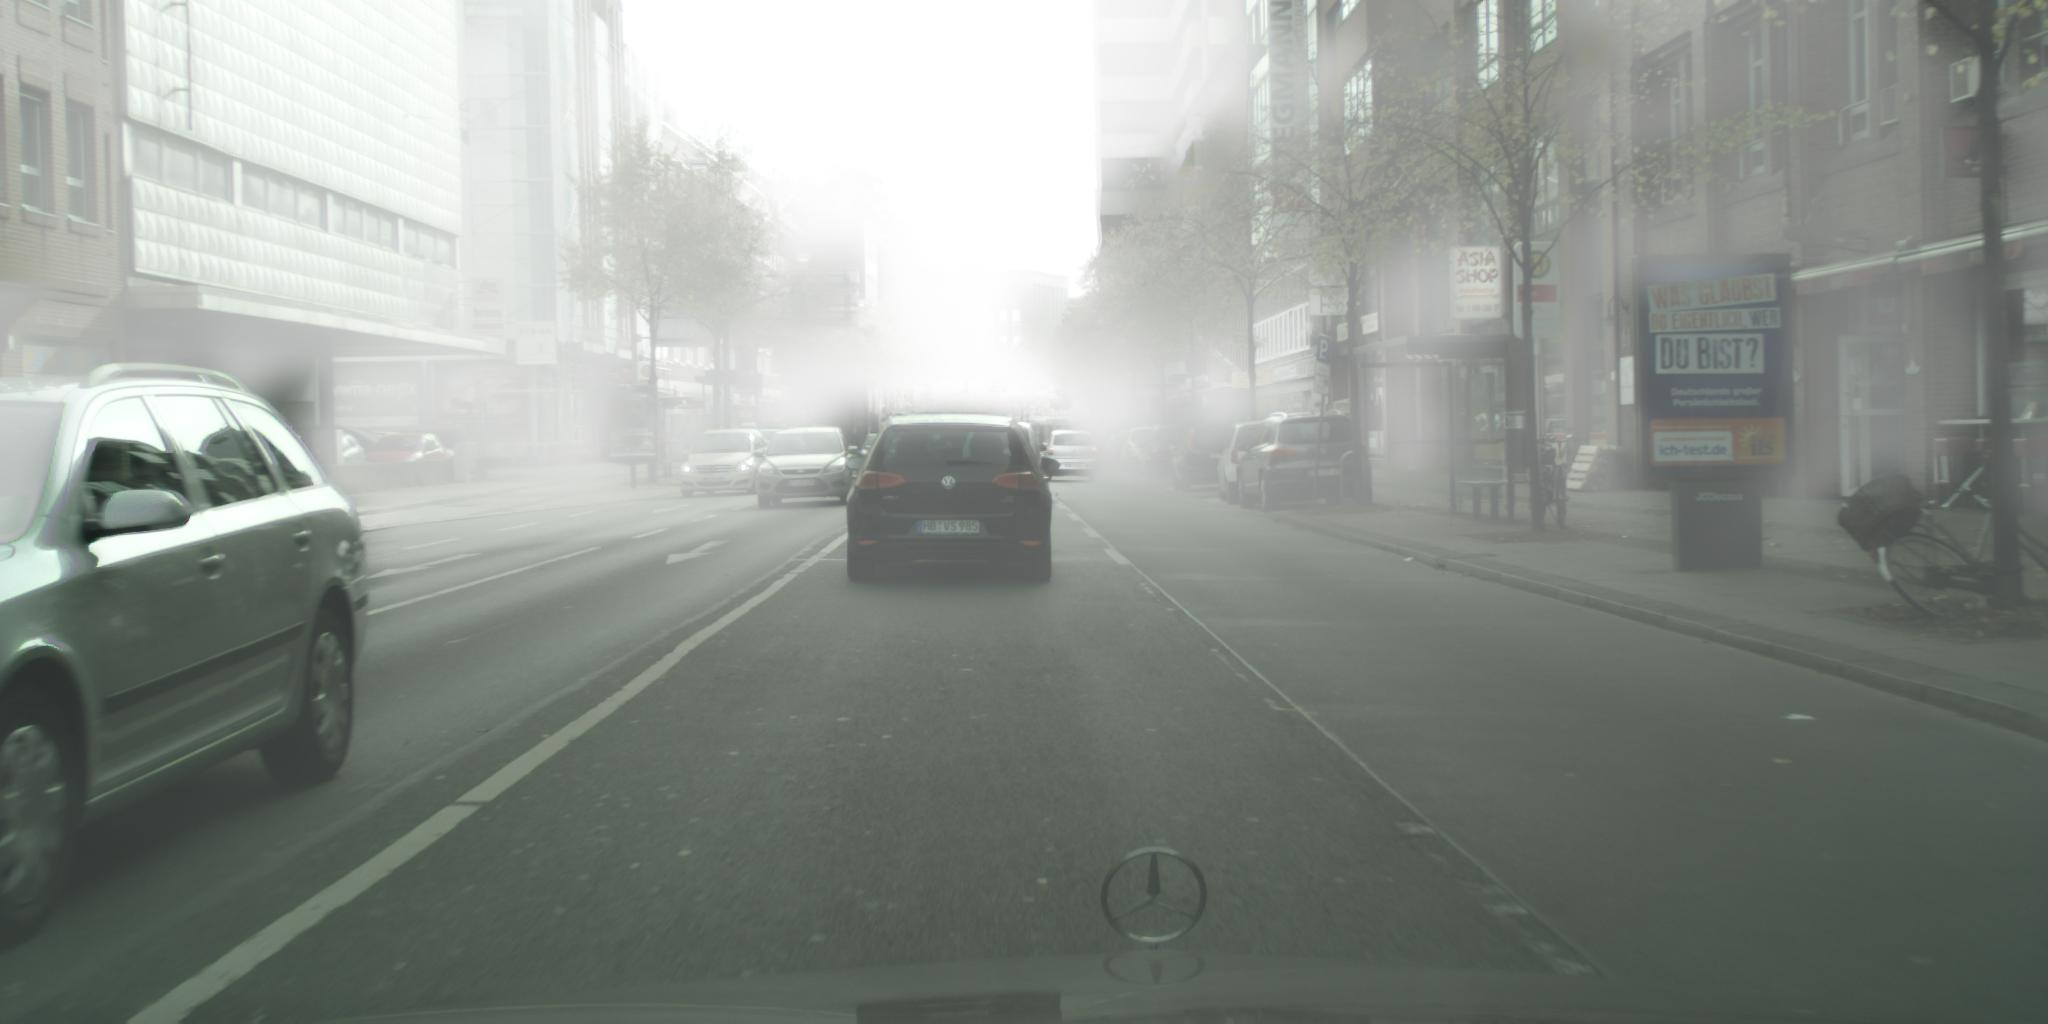bicycle: (1838, 453, 2048, 627), (1539, 435, 1590, 526)
car: (1, 362, 370, 950), (845, 411, 1061, 584), (1236, 410, 1375, 515), (754, 424, 859, 509), (679, 428, 771, 498), (1169, 426, 1238, 492), (1209, 422, 1262, 505), (1044, 430, 1101, 485), (1138, 424, 1190, 482), (364, 434, 445, 465), (371, 431, 457, 460), (1121, 427, 1155, 478), (334, 428, 367, 465), (340, 426, 380, 455), (1109, 430, 1132, 475), (1014, 423, 1038, 453), (758, 428, 778, 455), (861, 434, 880, 458), (1102, 436, 1115, 472)
